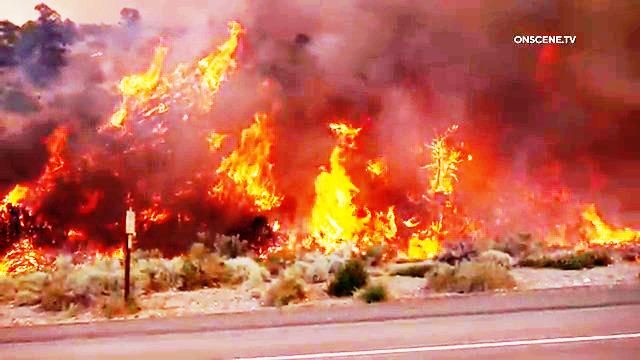fire: (92, 16, 253, 142), (296, 120, 390, 263), (192, 116, 289, 231), (390, 131, 468, 259), (554, 197, 640, 256), (0, 176, 39, 225)
smoke: (256, 6, 490, 122), (477, 55, 636, 141), (0, 25, 73, 162)
